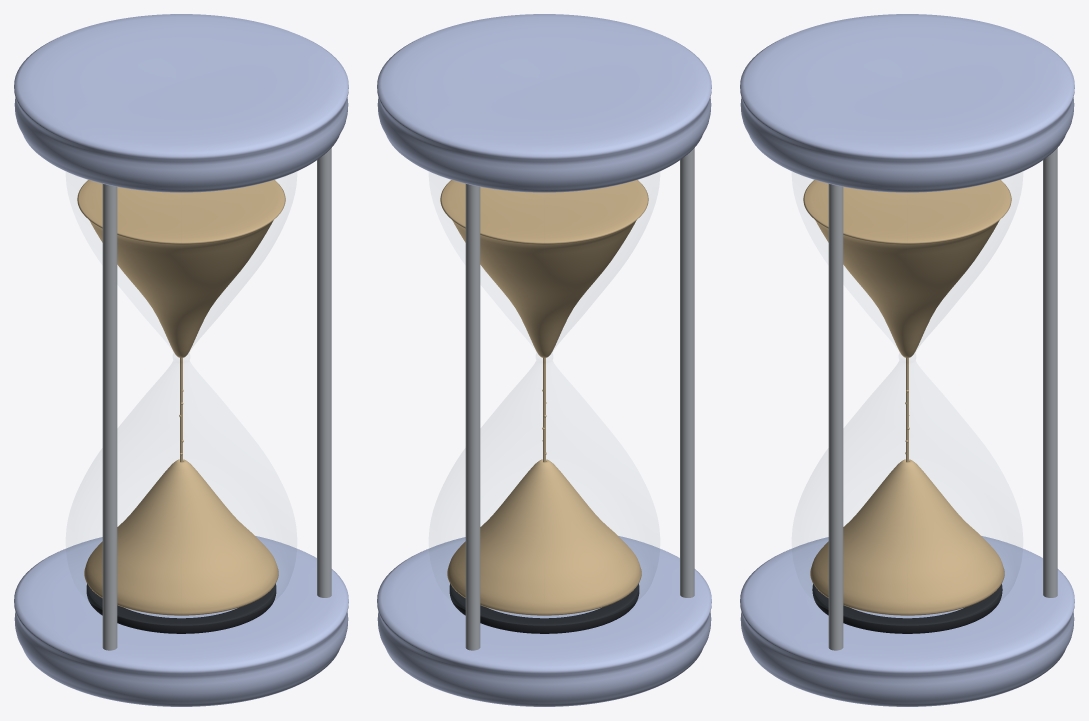
Rendered from sand-timer.glb.
The picture shows the model from 3 angles, left to right: view 1: azimuth 30°, elevation 25°; view 2: azimuth 150°, elevation 25°; view 3: azimuth 270°, elevation 25°; orthographic projection.
Parts seen in each view (by area): view 1: single-fitted-turned-end-cap (×2), upper-sand-reservoir, lower-sand-mound, fixed-turned-frame-004, fixed-turned-frame-003, fitted-glass-seat; view 2: single-fitted-turned-end-cap (×2), upper-sand-reservoir, lower-sand-mound, fixed-turned-frame-005, fixed-turned-frame-004, fitted-glass-seat; view 3: single-fitted-turned-end-cap (×2), upper-sand-reservoir, lower-sand-mound, fixed-turned-frame-003, fixed-turned-frame-005, fitted-glass-seat.
Part boxes in pixels (bbox=[...]): single-fitted-turned-end-cap (×2): bbox=[14, 14, 348, 706]; upper-sand-reservoir: bbox=[77, 180, 285, 357]; lower-sand-mound: bbox=[84, 459, 278, 615]; fixed-turned-frame-004: bbox=[102, 184, 117, 650]; fixed-turned-frame-003: bbox=[317, 148, 331, 597]; fitted-glass-seat: bbox=[86, 583, 276, 633]; single-fitted-turned-end-cap (×2): bbox=[377, 14, 711, 706]; upper-sand-reservoir: bbox=[440, 180, 648, 357]; lower-sand-mound: bbox=[447, 459, 641, 615]; fixed-turned-frame-005: bbox=[465, 184, 480, 650]; fixed-turned-frame-004: bbox=[680, 148, 694, 597]; fitted-glass-seat: bbox=[449, 583, 639, 633]; single-fitted-turned-end-cap (×2): bbox=[740, 14, 1074, 706]; upper-sand-reservoir: bbox=[803, 180, 1011, 357]; lower-sand-mound: bbox=[810, 459, 1004, 615]; fixed-turned-frame-003: bbox=[828, 184, 843, 650]; fixed-turned-frame-005: bbox=[1043, 148, 1057, 597]; fitted-glass-seat: bbox=[812, 584, 1002, 633].
Bounding box in the file's own units: 1.08 × 2 × 1.08.
